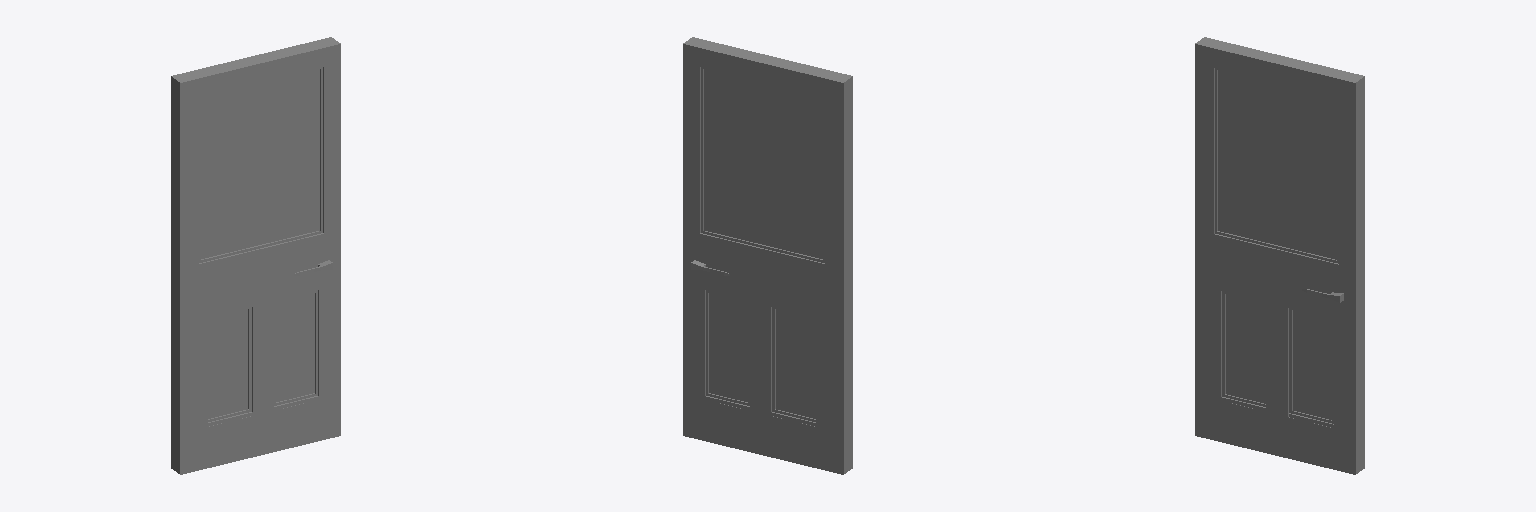
File: Door.obj
The picture shows the model from 3 angles: view 1: azimuth 30°, elevation 25°; view 2: azimuth 150°, elevation 25°; view 3: azimuth 330°, elevation 25°; orthographic projection.
Parts seen in each view (by area): view 1: DoorNew; view 2: DoorNew; view 3: DoorNew.
Boxes of the visible parts, x1=… form: DoorNew: x1=171, y1=37, x2=340, y2=474; DoorNew: x1=683, y1=37, x2=852, y2=474; DoorNew: x1=1195, y1=37, x2=1364, y2=474.
Size of the model in its own units: 90.57 by 211 by 16.64.